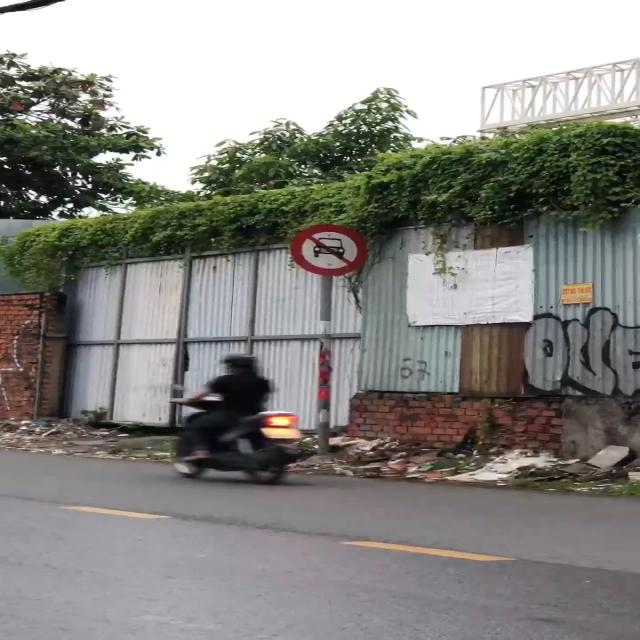Bien bao cam xe oto: (286, 221, 378, 276)
